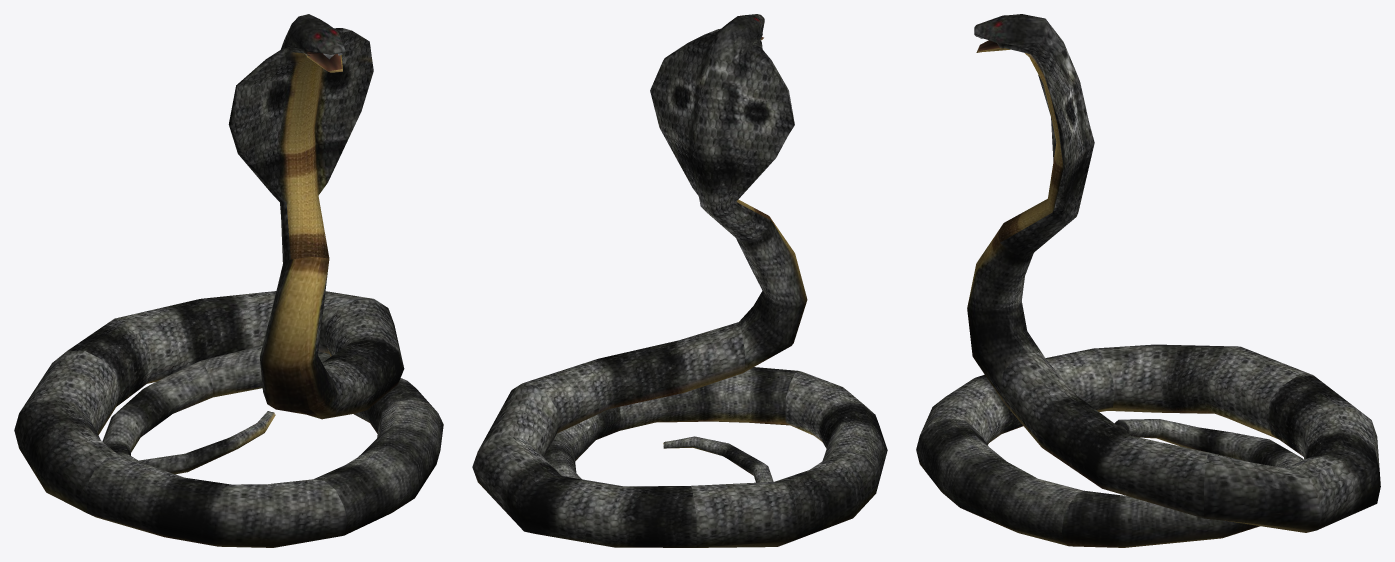
File: cobra.obj
The picture shows the model from 3 angles, left to right: view 1: azimuth 30°, elevation 25°; view 2: azimuth 150°, elevation 25°; view 3: azimuth 270°, elevation 25°; orthographic projection. The views are drawn at different scales.
Visible parts, largest first — view 1: Group; view 2: Group; view 3: Group.
Boxes of the visible parts, x1,y1,x2,y2 form: Group: (14, 14, 443, 547); Group: (472, 14, 887, 547); Group: (916, 14, 1380, 547).
Size of the model in its own units: 34.71 by 43.92 by 38.12.
